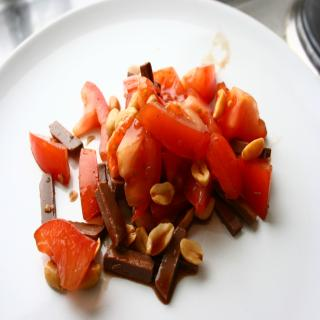tomato: (34, 217, 102, 290), (118, 119, 166, 222), (136, 102, 211, 162), (71, 79, 110, 162), (207, 128, 244, 198), (215, 90, 262, 143), (238, 154, 274, 221), (31, 131, 70, 185), (180, 64, 217, 104), (79, 145, 98, 216), (154, 66, 186, 101)
